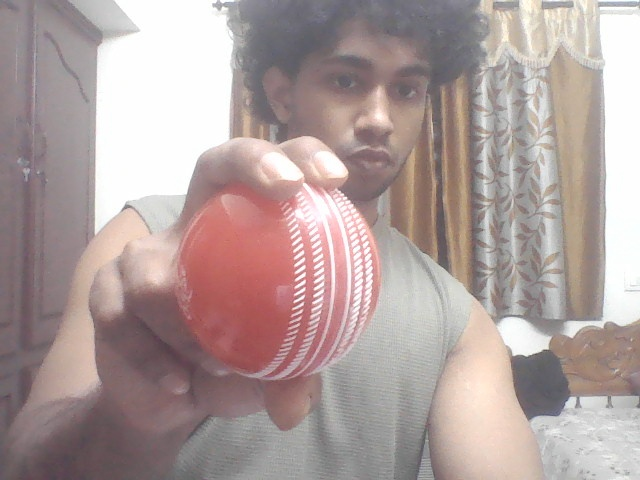cricket_ball: (173, 177, 390, 380)
